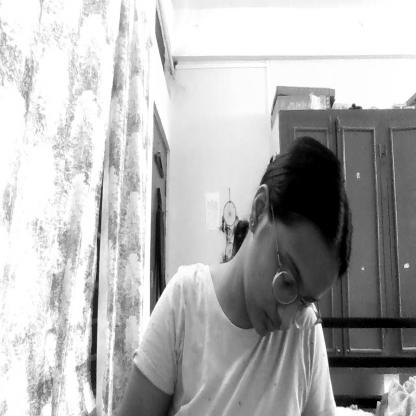Distracted: (247, 138, 334, 339)
